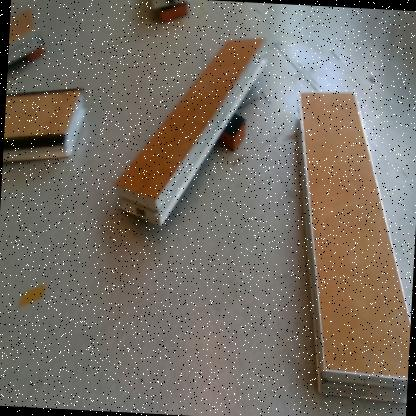Stairs: (296, 91, 411, 405), (113, 39, 269, 231), (3, 90, 87, 165), (8, 9, 38, 68)
